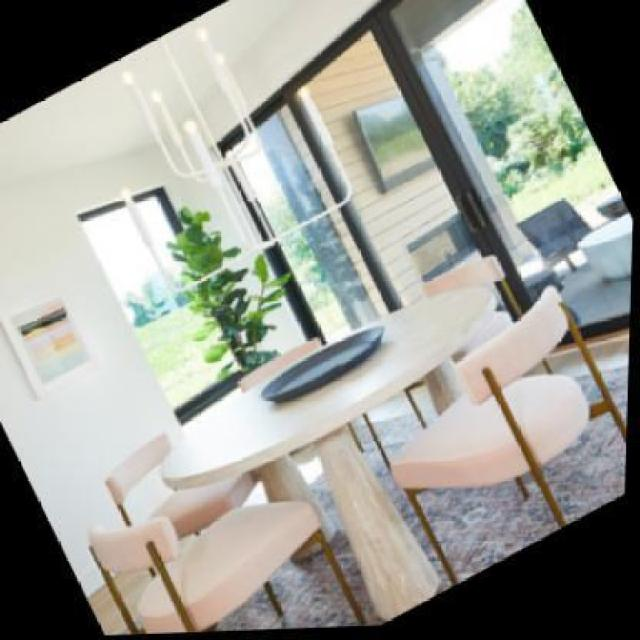tables: (158, 284, 497, 624)
